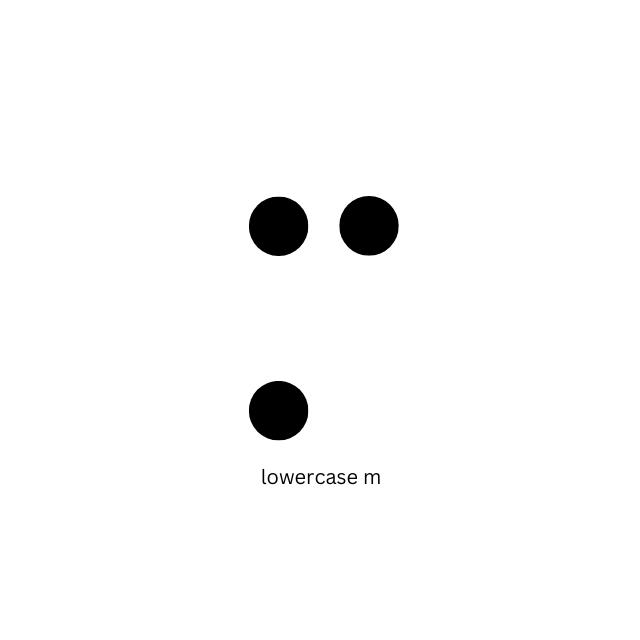letter_m: (246, 195, 401, 442)
